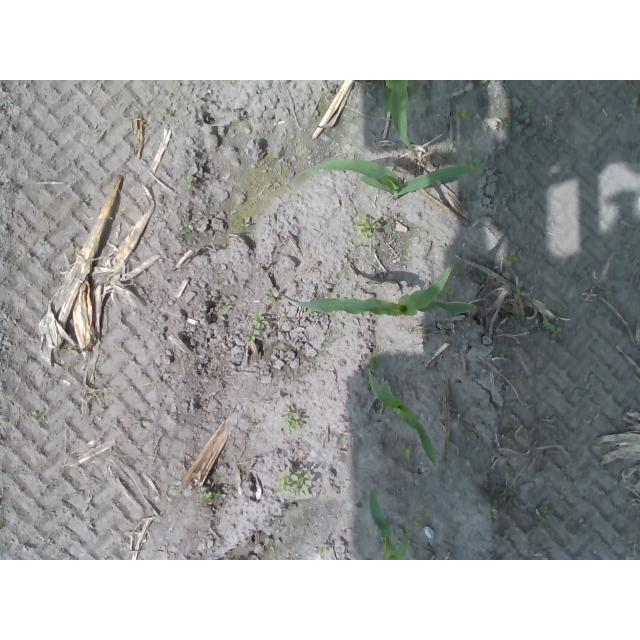Maize: (282, 264, 479, 318), (300, 158, 488, 202), (369, 366, 440, 466), (370, 488, 413, 561), (383, 80, 410, 145)
Weeds: (278, 464, 315, 496), (353, 214, 384, 238), (200, 490, 225, 508), (503, 248, 521, 273), (511, 287, 526, 317), (281, 412, 303, 432), (178, 223, 195, 241), (466, 152, 480, 172), (543, 321, 561, 335), (256, 311, 269, 330), (265, 288, 279, 304), (244, 329, 261, 341), (456, 111, 474, 122), (496, 347, 513, 357), (402, 446, 414, 460), (66, 345, 80, 356), (478, 396, 490, 408), (185, 179, 195, 190), (486, 506, 498, 515), (539, 506, 550, 515)
